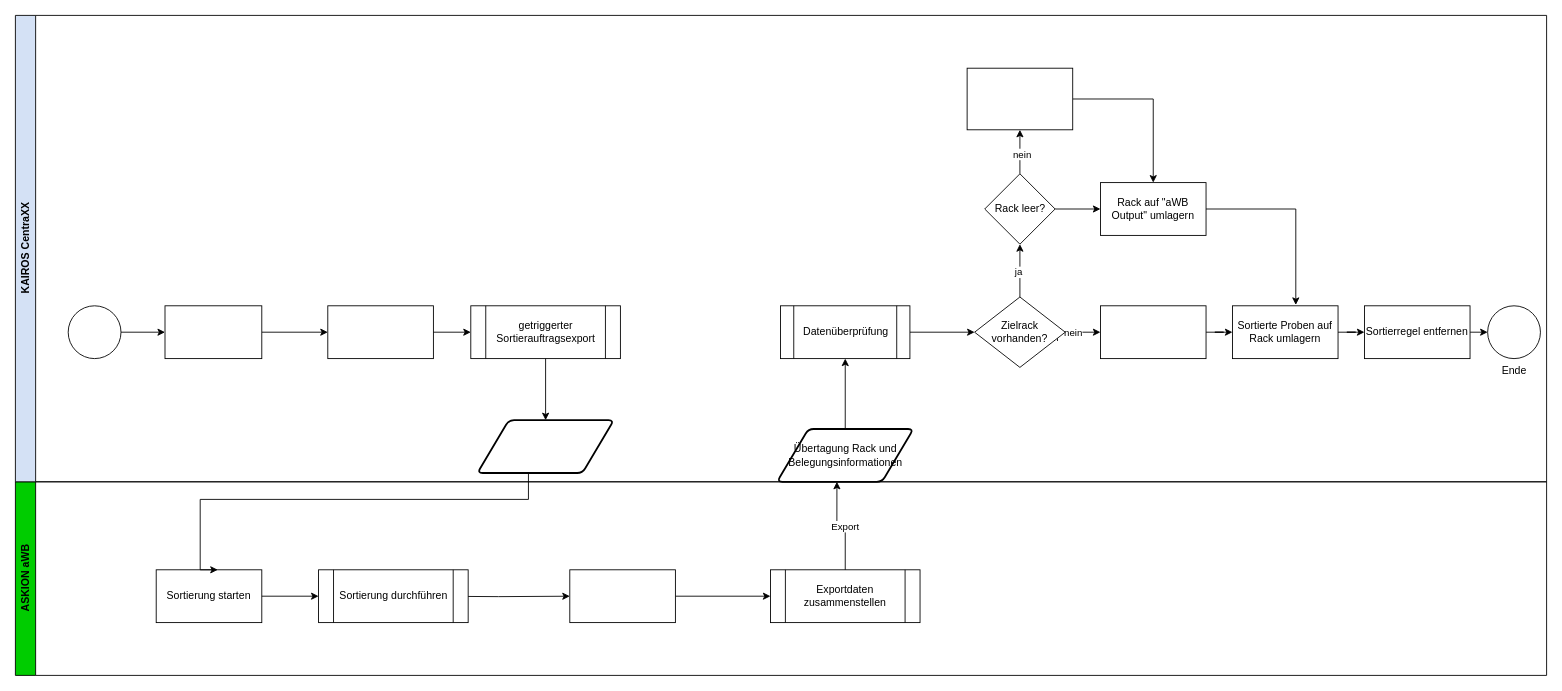
Image size: 1562x691. Some labels were removed from this diagram. The shapes that lost their labels are listed below. From the top down, each one's centre as x and y in pixels, then its label:
the point at 1019,98: Proben des Racks auf temporären Lagerort "Überprüfung notwendig" umlagern
the point at 94,332: Start
the point at 213,332: Sortierregel an Probe hinterlegen
the point at 380,332: Rack auf Lagerort "aWB input" umlagern
the point at 1153,332: Rackanlage in "aWB Output"
the point at 545,446: Sortierauftrag
the point at 622,596: Rackbelegungen scannen
